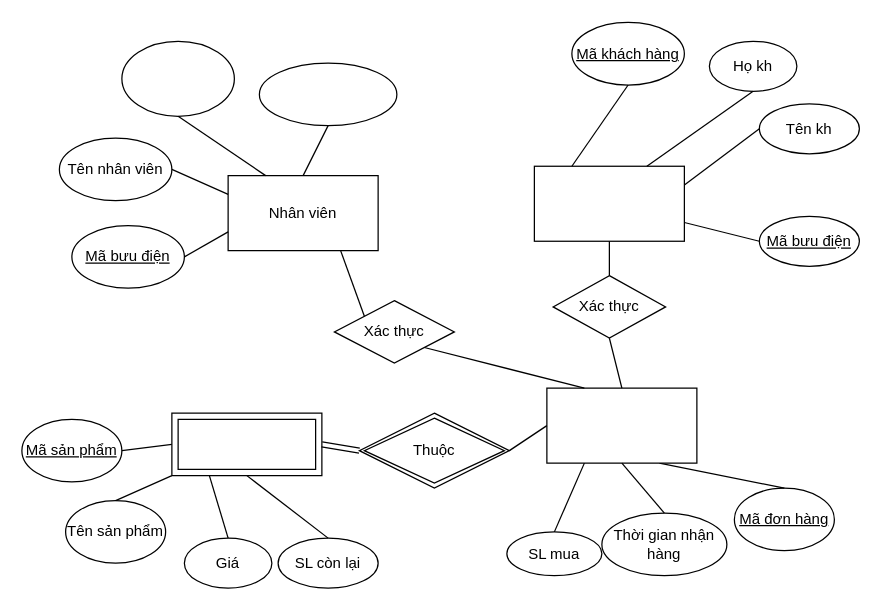
This 881x610 diagram has some shape labels left out. The centre of each missing label's shape, as x and y in pixels:
"Họ nhân viên" goes at [327,94].
"Khách hàng" goes at [608,203].
"Mã nhân viên" goes at [177,78].
"Sản phẩm" goes at [246,444].
"Đơn hàng" goes at [621,425].
